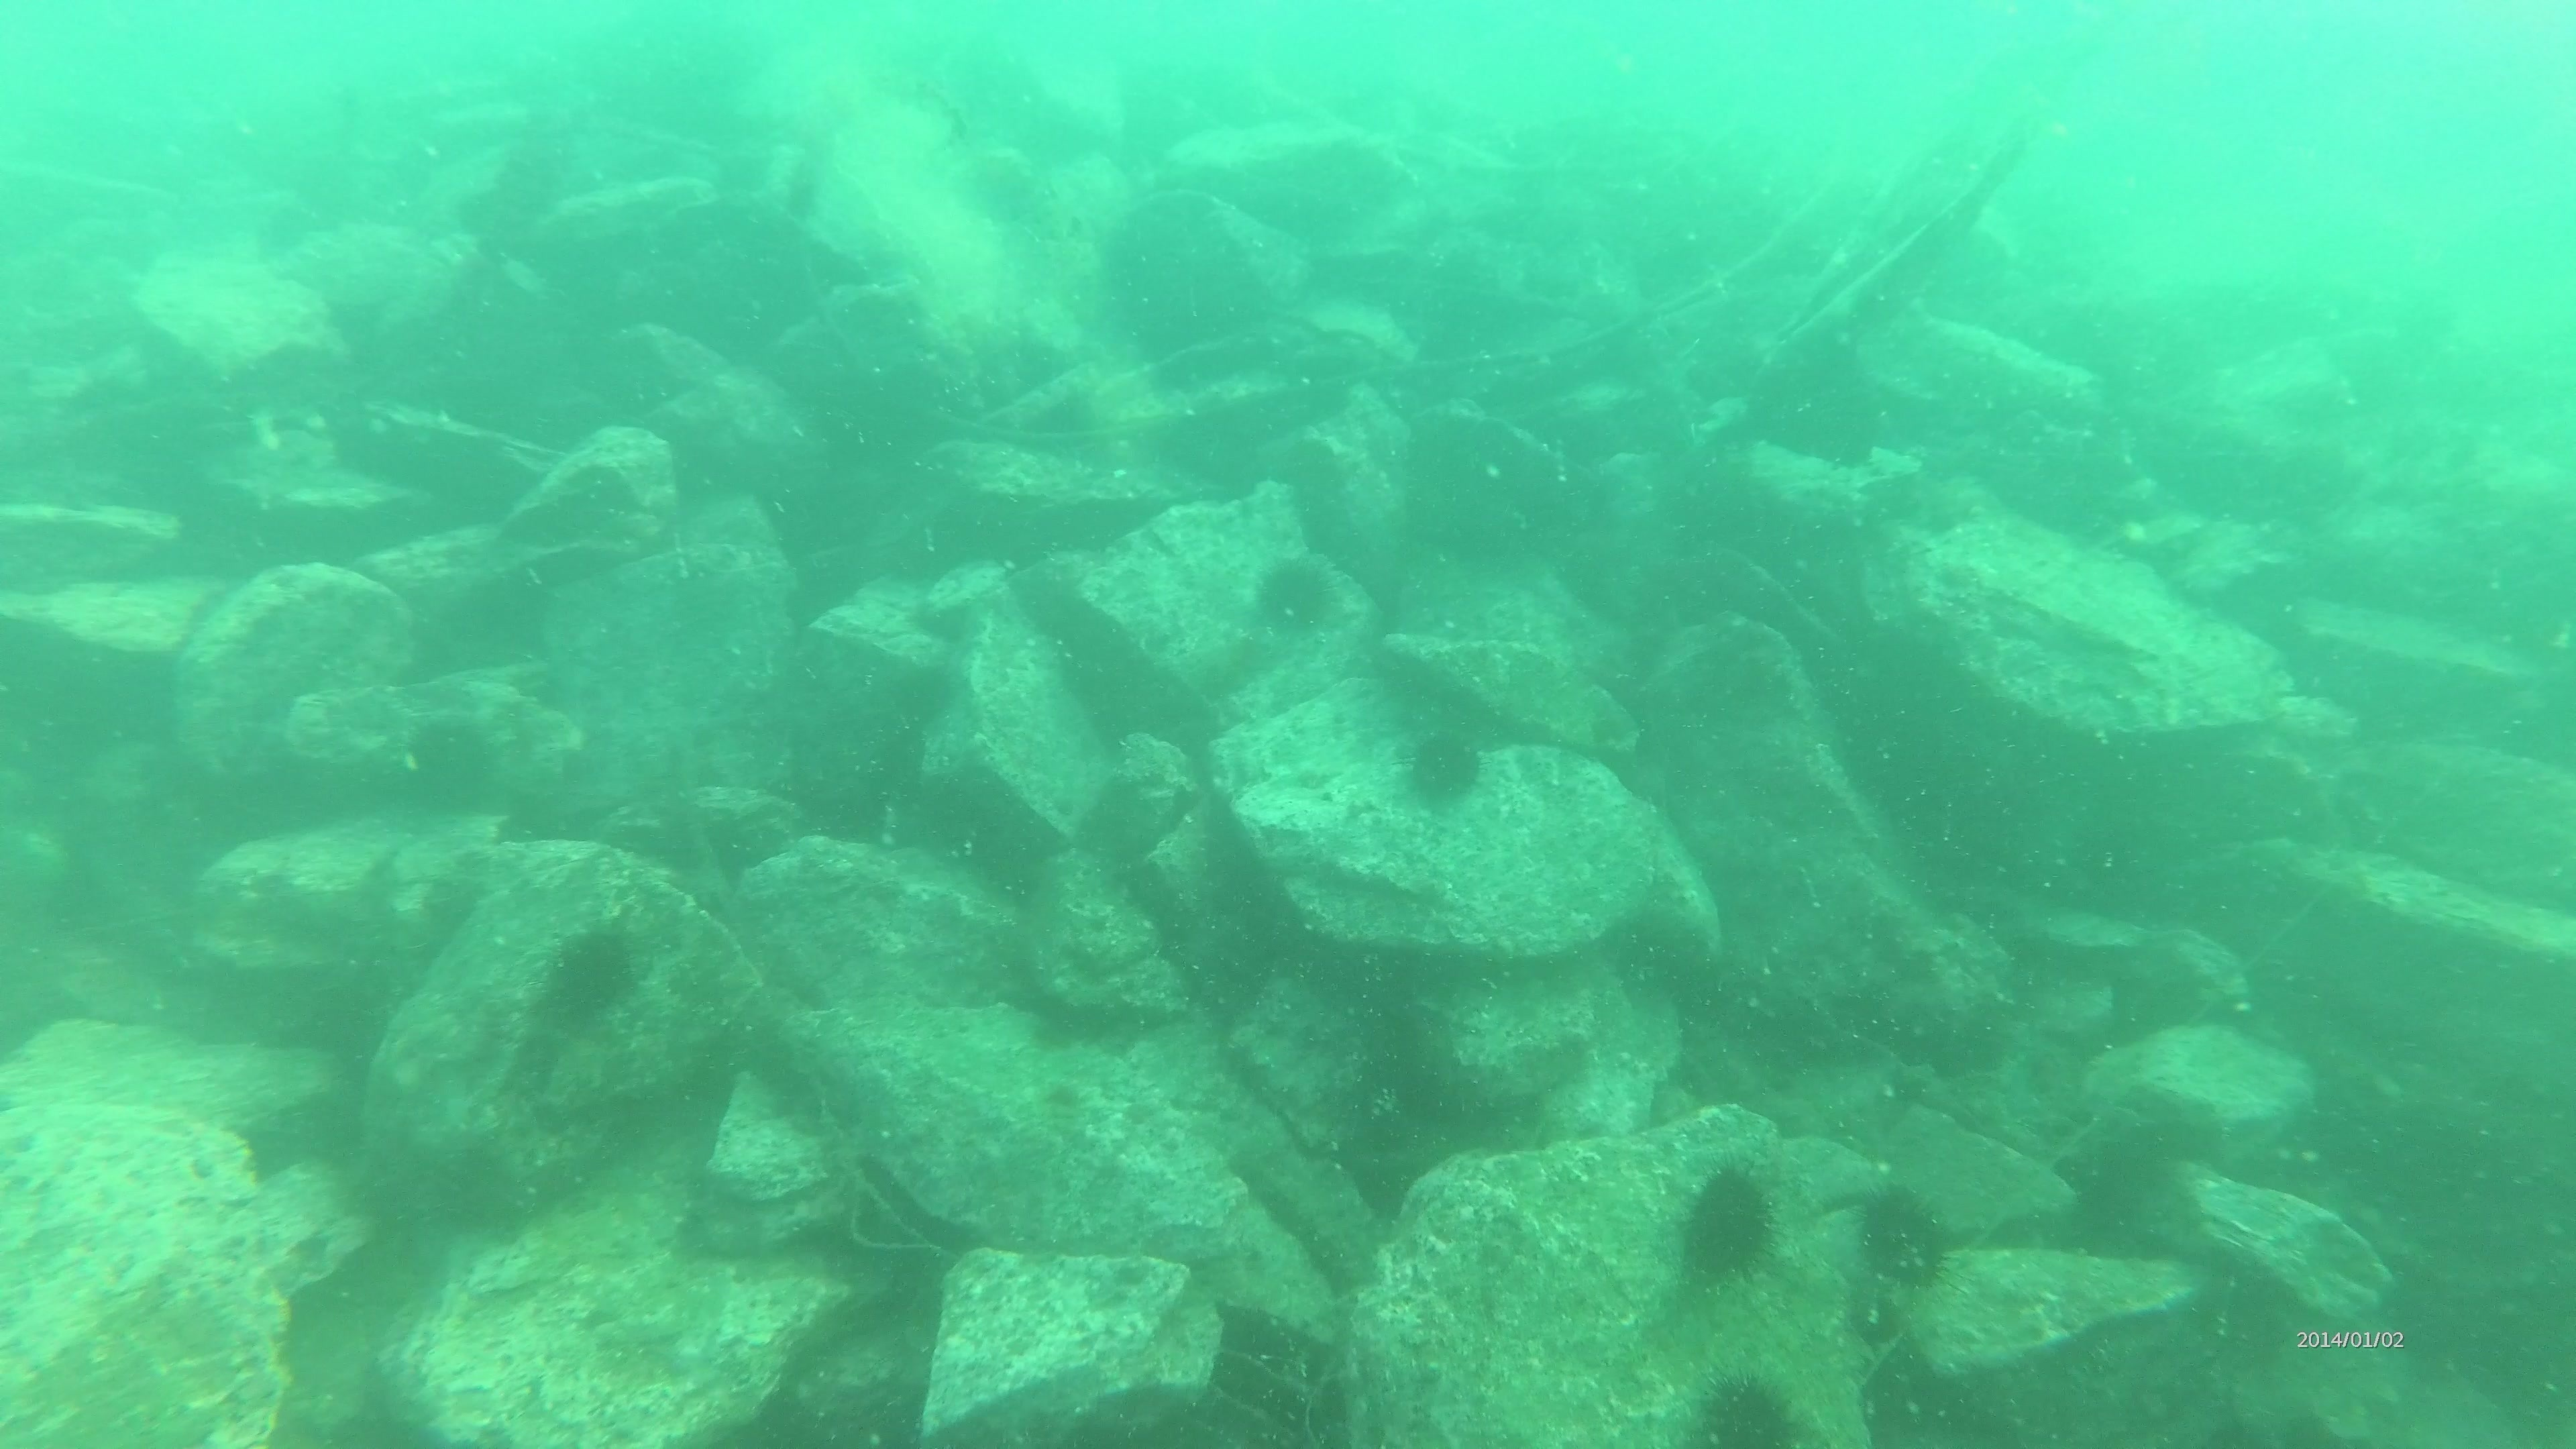echinus: (1670, 1157, 1785, 1290), (1845, 1180, 1960, 1297), (534, 916, 651, 1030), (396, 708, 506, 819), (1684, 1366, 1810, 1449), (1392, 718, 1493, 816), (1247, 550, 1345, 646)
